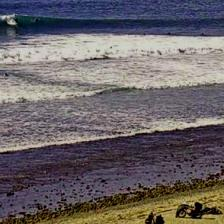surfer: (14, 18, 19, 23), (4, 73, 8, 77), (36, 18, 39, 22), (168, 32, 170, 34), (202, 33, 204, 35)
